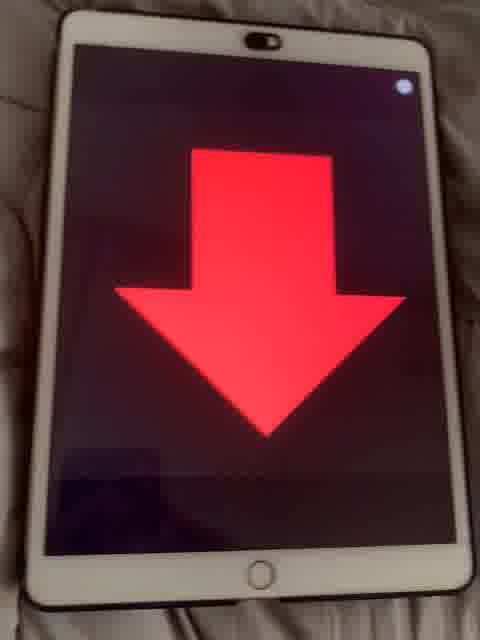down: (104, 142, 411, 448)
